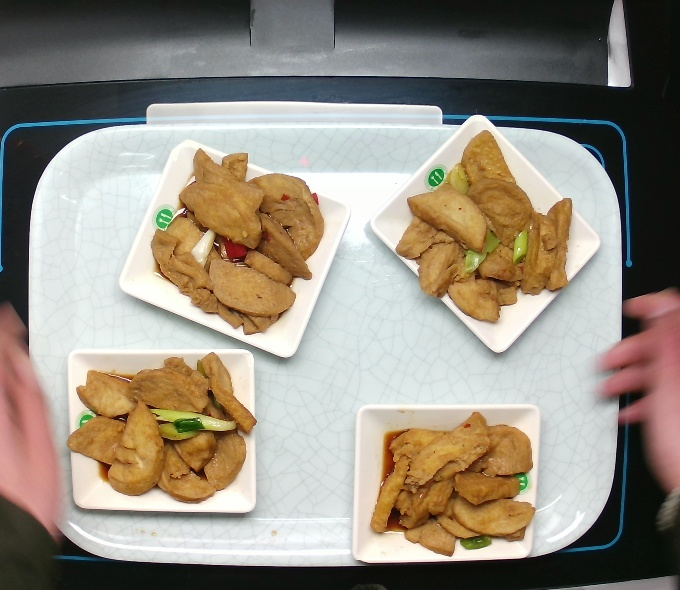wcq-SuJi: (392, 123, 575, 323), (145, 144, 332, 333), (68, 349, 258, 510), (369, 400, 540, 558)
